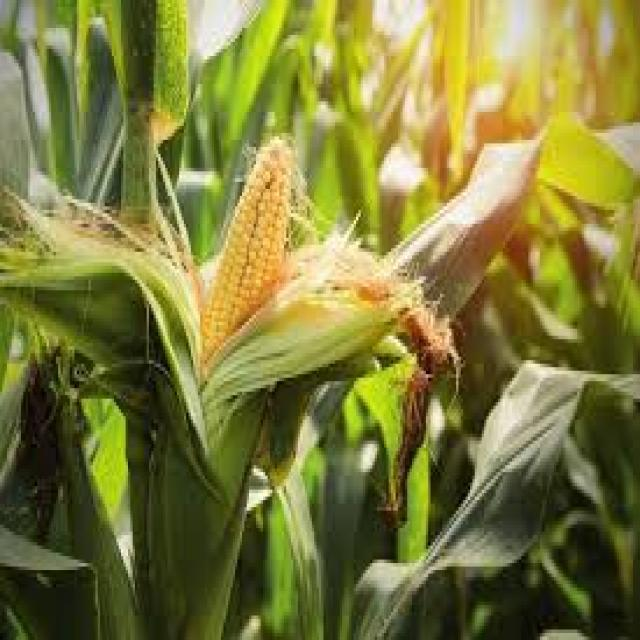corn: (192, 116, 307, 432)
